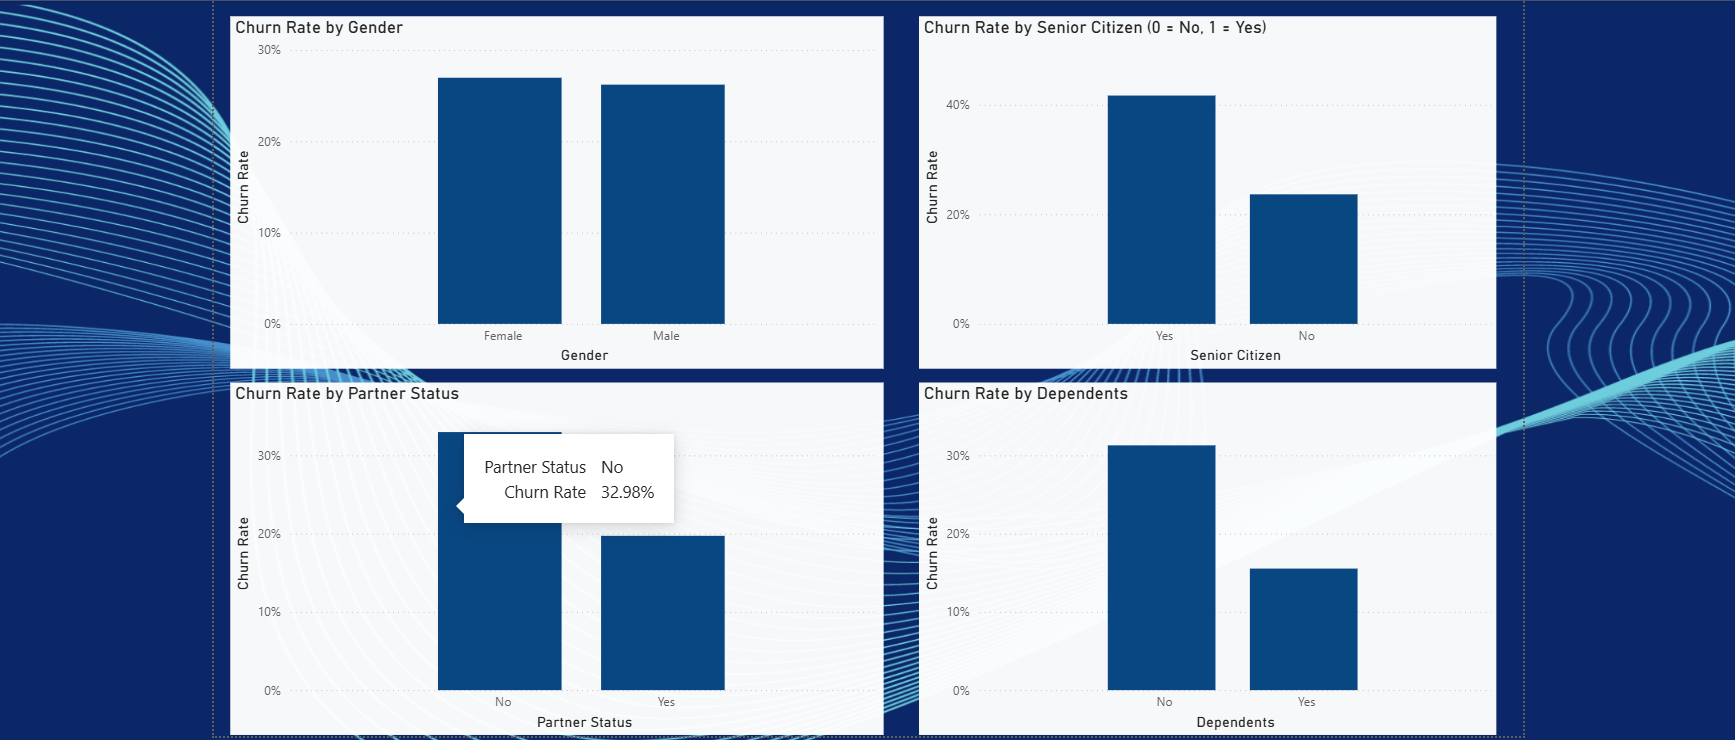

Layout of this report page (visuals, bound fields, positions):
{"tool":"powerbi","page":{"name":"Customer Demographics","canvas":[1280,720],"ordinal":1},"visuals":[{"type":"clusteredColumnChart","fields":{"Category":["cleaned_customer_churn.gender"],"Y":["cleaned_customer_churn.Churn Rate"]},"box":[15.6,15.6,639.2,344.9],"z":0},{"type":"clusteredColumnChart","title":"Churn Rate by Senior Citizen (0 = No, 1 = Yes)","fields":{"Y":["cleaned_customer_churn.Churn Rate"],"Category":["cleaned_customer_churn.SeniorCitizen"]},"box":[689.9,15.6,565.2,344.9],"z":1000},{"type":"clusteredColumnChart","fields":{"Y":["cleaned_customer_churn.Churn Rate"],"Category":["cleaned_customer_churn.Partner"]},"box":[15.6,374.2,639.2,344.9],"z":2000},{"type":"clusteredColumnChart","fields":{"Y":["cleaned_customer_churn.Churn Rate"],"Category":["cleaned_customer_churn.Dependents"]},"box":[689.9,374.2,565.2,344.9],"z":3000}]}

Visuals, with their boxes in screenshot pixels (x1, y1, x2, y2):
clusteredColumnChart - cleaned_customer_churn.gender x cleaned_customer_churn.Churn Rate: Rect(228, 11, 877, 361)
"Churn Rate by Senior Citizen (0 = No, 1 = Yes)" clusteredColumnChart: Rect(913, 11, 1486, 361)
clusteredColumnChart - cleaned_customer_churn.Churn Rate x cleaned_customer_churn.Partner: Rect(228, 375, 877, 725)
clusteredColumnChart - cleaned_customer_churn.Churn Rate x cleaned_customer_churn.Dependents: Rect(913, 375, 1486, 725)
